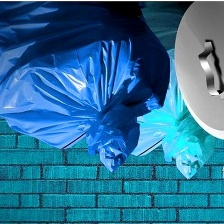plastic_bag: (0, 0, 172, 175), (111, 0, 219, 182)
